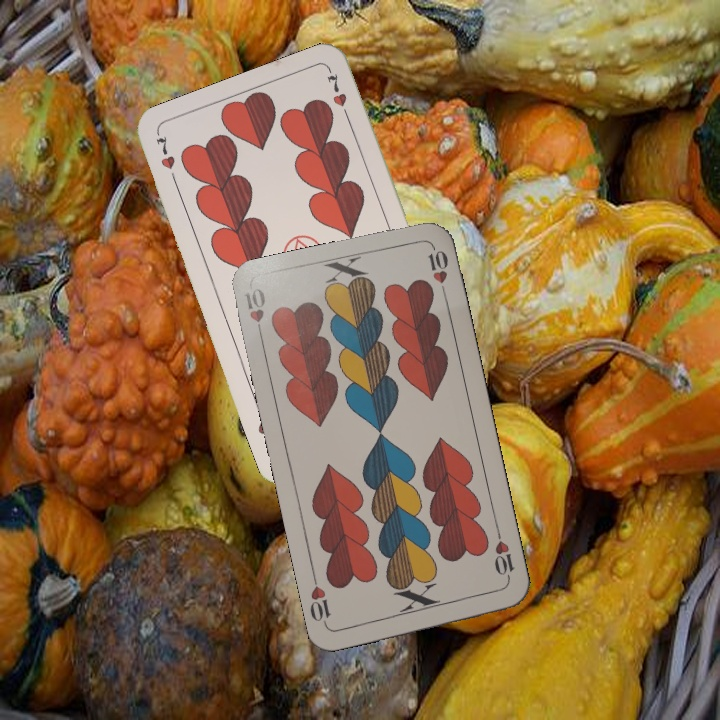H10: (490, 527, 517, 586), (241, 284, 268, 343)
H7: (151, 130, 180, 188)
